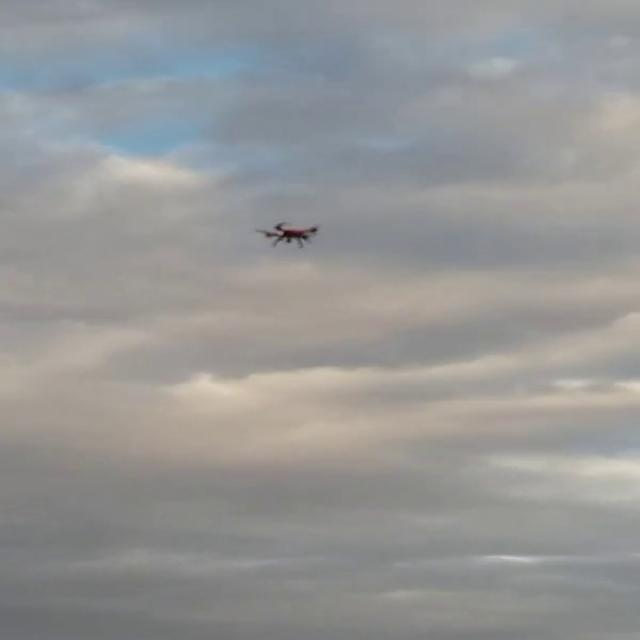drone: (257, 218, 326, 248)
